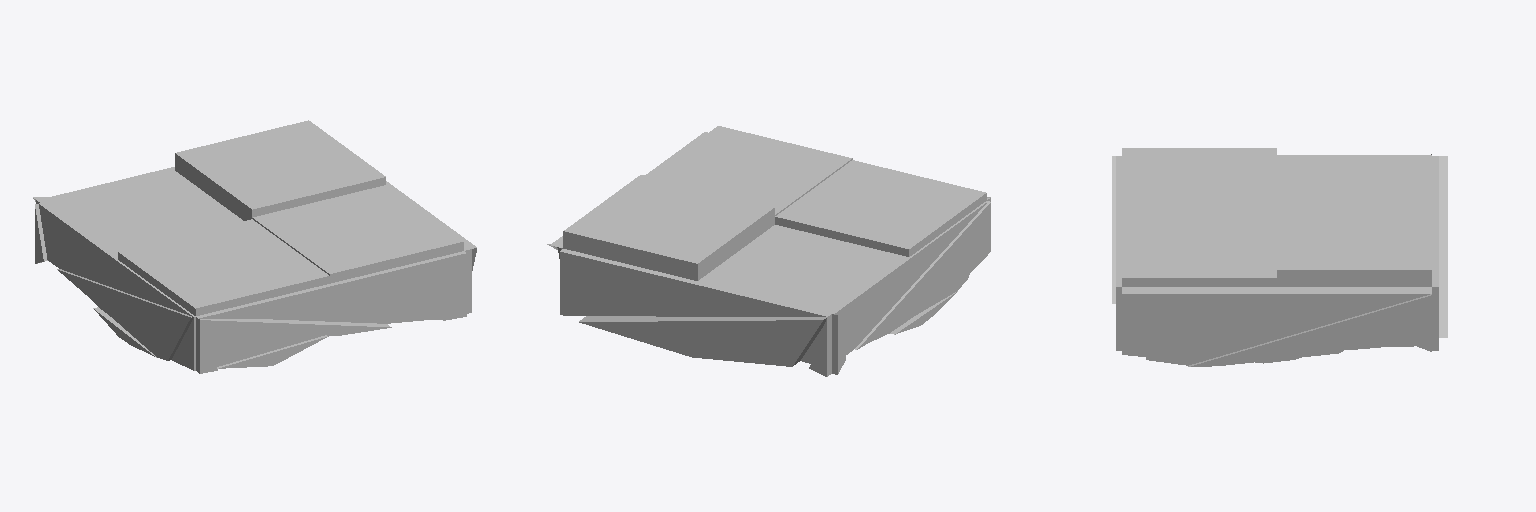
Rendered from pillar_4.obj.
3 views of the same model, side by side, from view 1: azimuth 30°, elevation 25°; view 2: azimuth 150°, elevation 25°; view 3: azimuth 270°, elevation 25° (orthographic).
Parts seen in each view (by area): view 1: Cube.009; view 2: Cube.009; view 3: Cube.009.
Part boxes in pixels (bbox=[...]): Cube.009: bbox=[33, 120, 476, 373]; Cube.009: bbox=[547, 126, 990, 376]; Cube.009: bbox=[1112, 148, 1447, 366].
Bounding box in the file's own units: 2.17 × 0.6957 × 2.17.